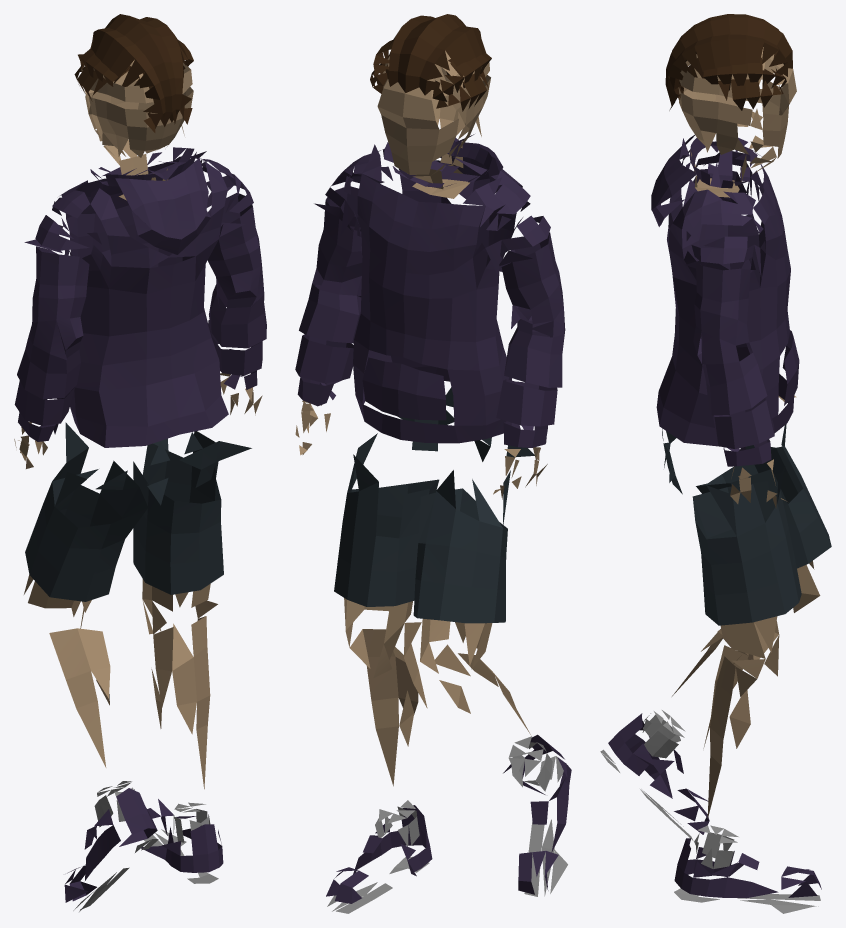
File: person_11_w3.fbx
The picture shows the model from 3 angles, left to right: view 1: azimuth 30°, elevation 25°; view 2: azimuth 150°, elevation 25°; view 3: azimuth 270°, elevation 25°; orthographic projection. The views are drawn at different scales.
Visible parts, largest first — view 1: Casual_Feet; view 2: Casual_Feet; view 3: Casual_Feet.
Part boxes in pixels (box(x1,y1,x2,y2)): Casual_Feet: box(14, 14, 266, 911); Casual_Feet: box(295, 14, 571, 913); Casual_Feet: box(600, 14, 831, 913).
Bounding box in the file's own units: 0.3004 × 1 × 0.2439.
